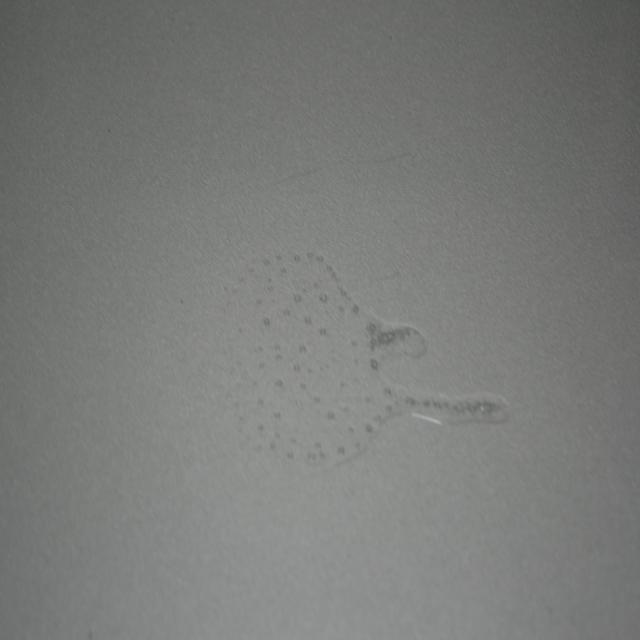runs: (224, 242, 508, 473)
